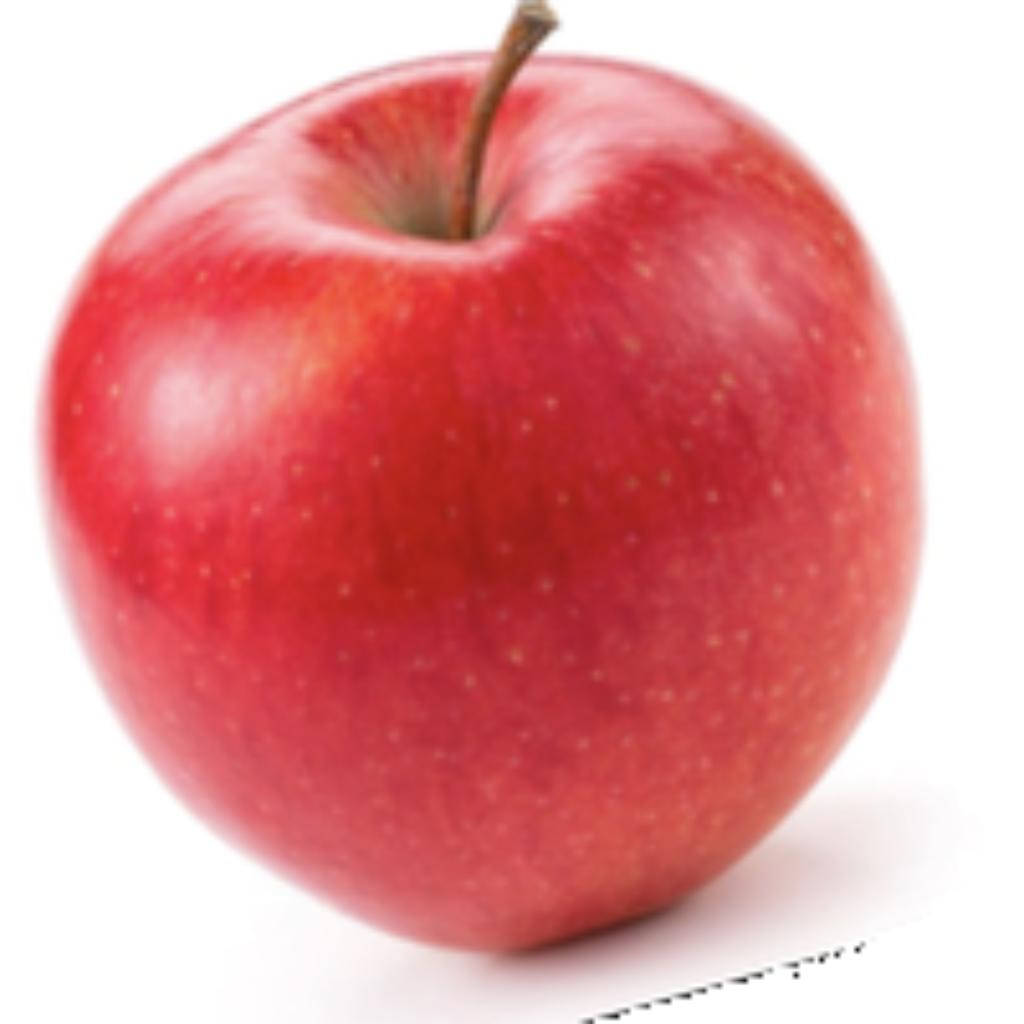apple: (26, 0, 932, 1019)
